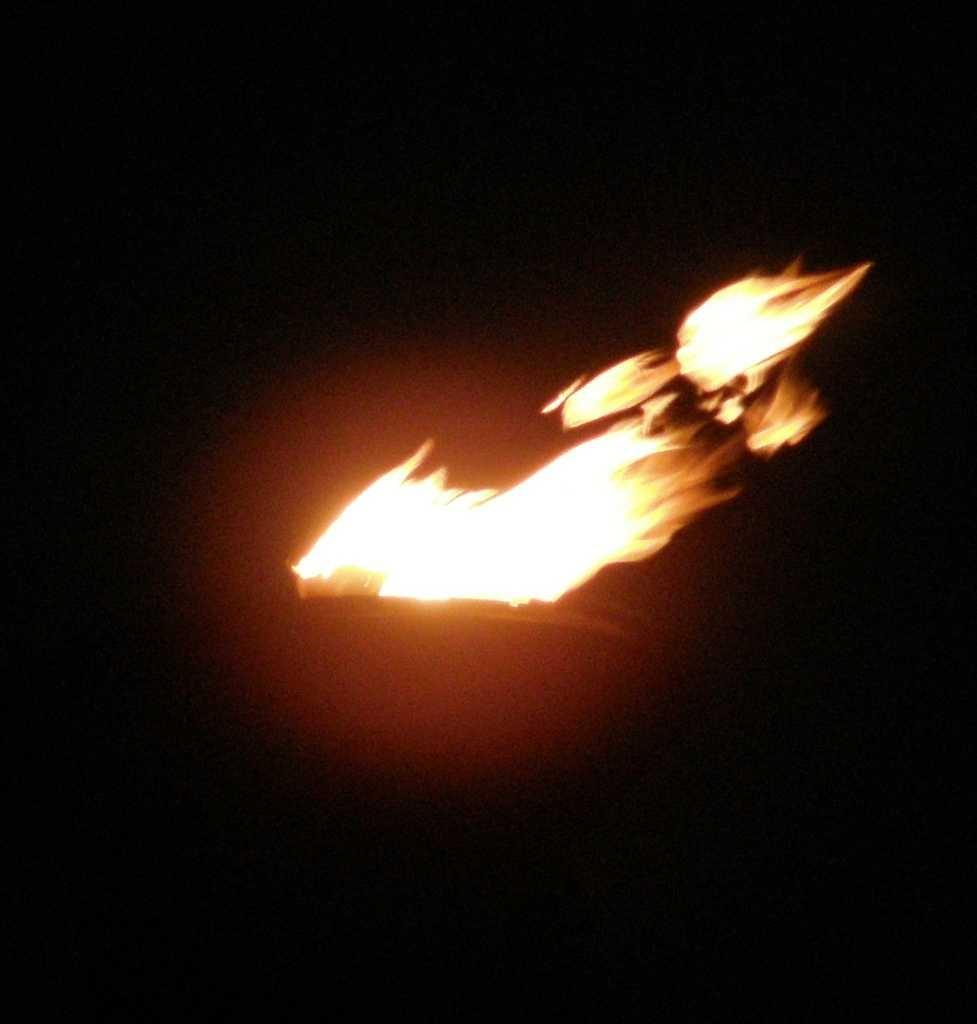fire: (372, 460, 668, 582), (698, 278, 825, 430)
